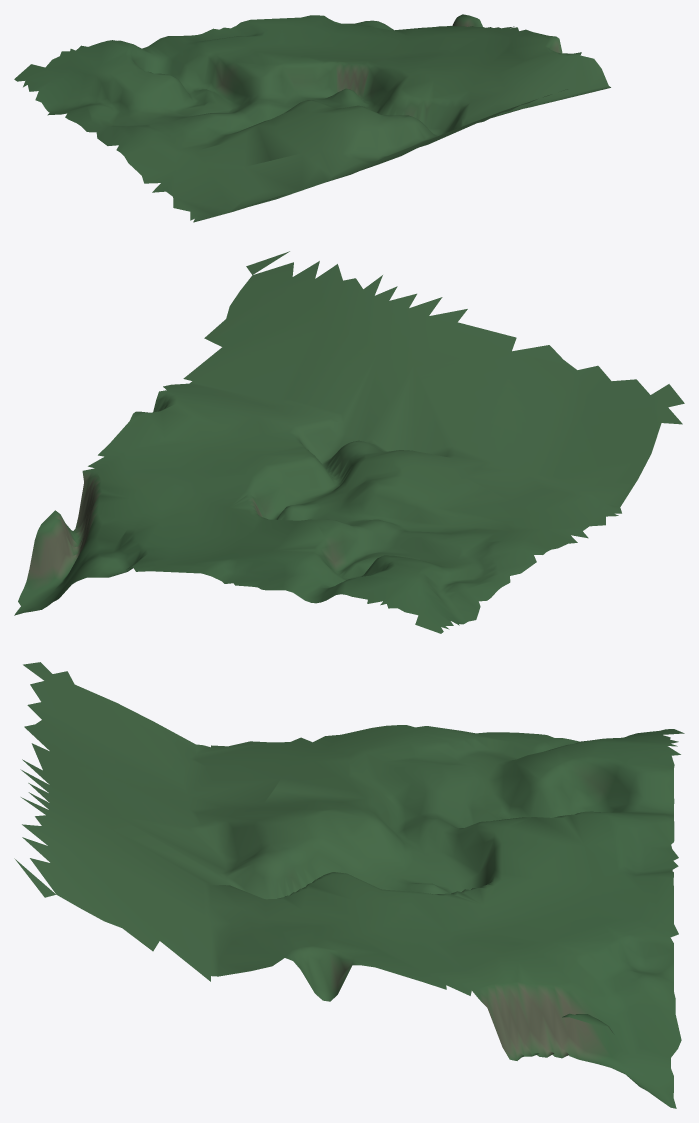
The model's file is payo_land_xm3_y9_lod1.glb.
3 renders of one model, top to bottom at view 1: azimuth 30°, elevation 25°; view 2: azimuth 150°, elevation 25°; view 3: azimuth 270°, elevation 25°, orthographic. The views are drawn at different scales.
Parts seen in each view (by area): view 1: payo_land_xm3_y9; view 2: payo_land_xm3_y9; view 3: payo_land_xm3_y9.
Part boxes in pixels (left/top/right/bottom): payo_land_xm3_y9: left=14, top=14, right=610, bottom=222; payo_land_xm3_y9: left=14, top=251, right=684, bottom=633; payo_land_xm3_y9: left=14, top=662, right=684, bottom=1108.
Bounding box in the file's own units: 268 × 106 × 269.
